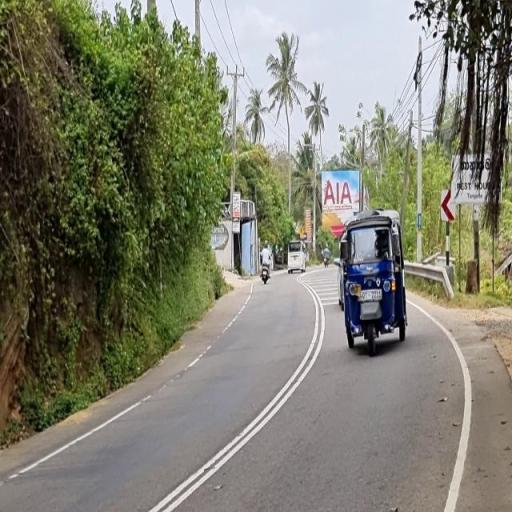double_white_line: (143, 284, 325, 510)
